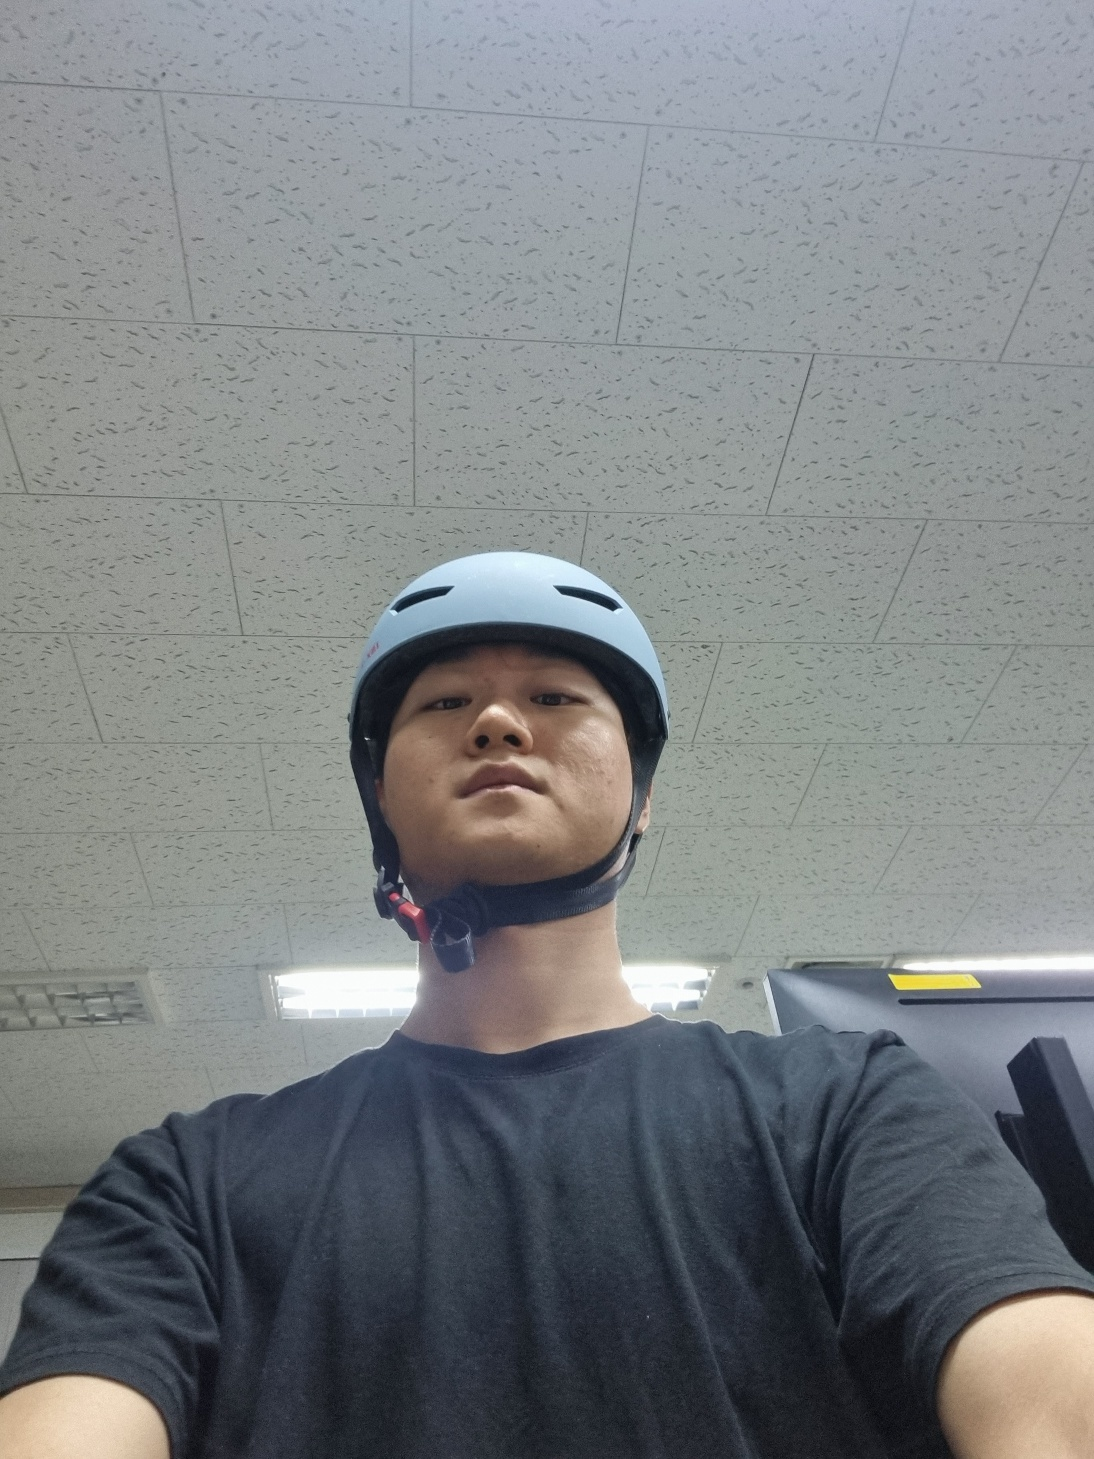Helmet: (296, 519, 718, 975)
